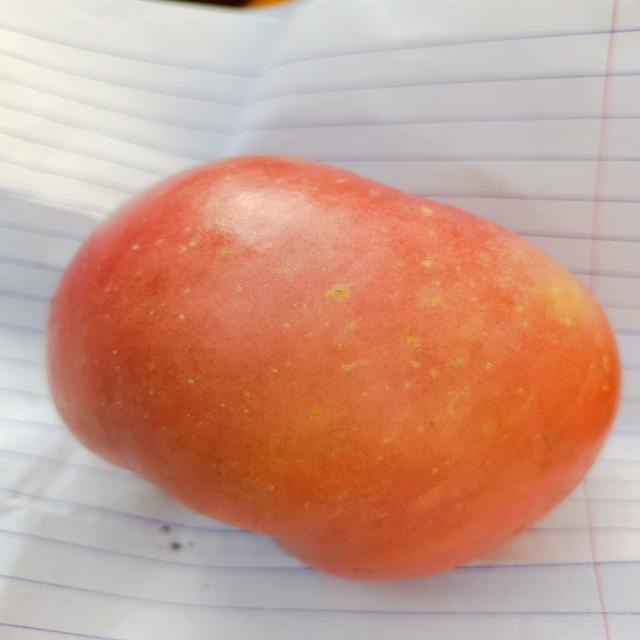Fresh Apple: (45, 162, 627, 570)
